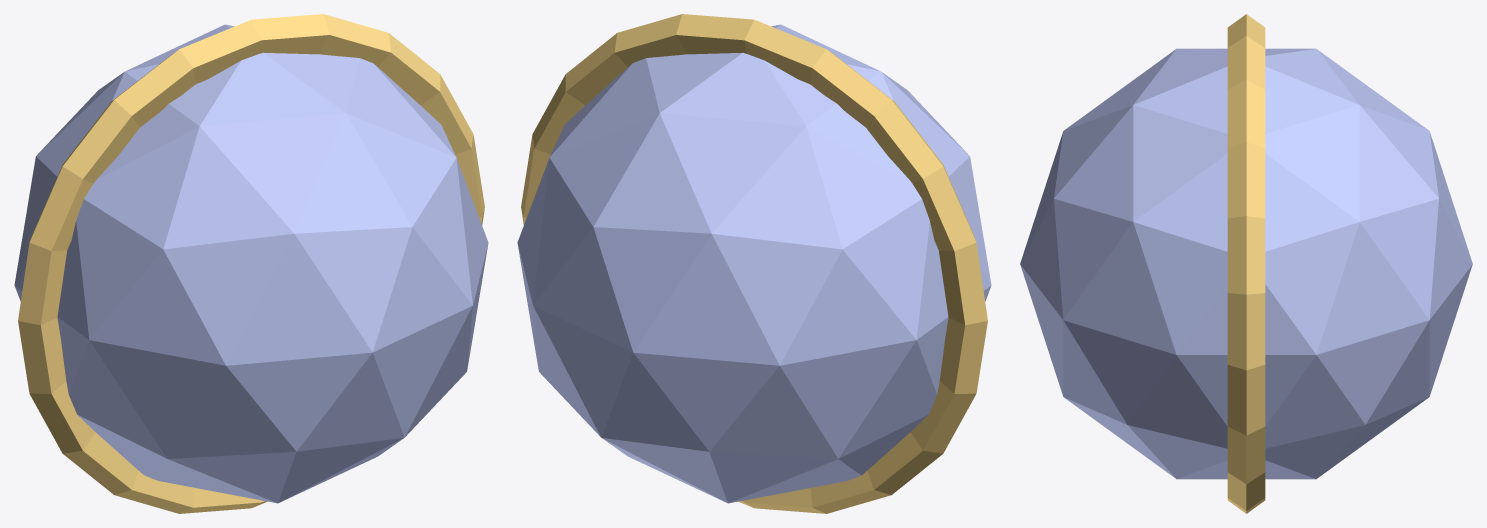
File: orb.fbx
The picture shows the model from 3 angles, left to right: view 1: azimuth 30°, elevation 25°; view 2: azimuth 150°, elevation 25°; view 3: azimuth 270°, elevation 25°; orthographic projection. The views are drawn at different scales.
Parts seen in each view (by area): view 1: orb.Main, orb.Gold; view 2: orb.Main, orb.Gold; view 3: orb.Main, orb.Gold.
Boxes of the visible parts, x1,y1,x2,y2 form: orb.Main: (14,24,488,503); orb.Gold: (18,14,484,513); orb.Main: (517,24,991,503); orb.Gold: (521,14,987,513); orb.Main: (1020,48,1472,479); orb.Gold: (1227,14,1265,513).
Size of the model in its own units: 1.78 by 1.78 by 1.6.
